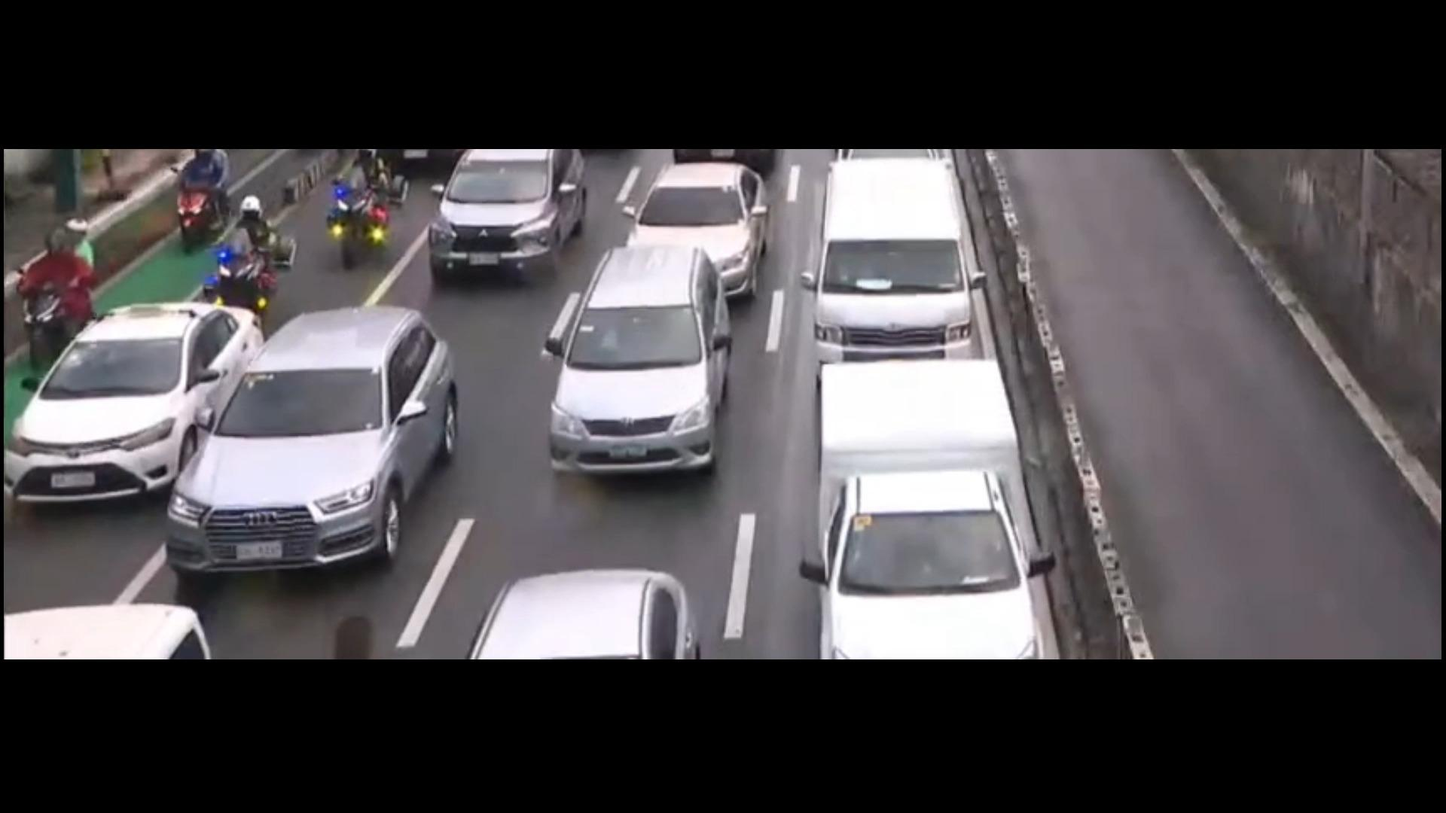Motorcycle: (10, 221, 119, 356), (211, 198, 300, 317), (327, 157, 416, 271), (157, 143, 239, 248)
SUV: (155, 292, 488, 584), (529, 239, 755, 490), (425, 143, 586, 293)
Sedan: (0, 265, 270, 511), (619, 164, 789, 295)
Truck: (807, 313, 1068, 663)
Van: (801, 138, 1000, 376)
